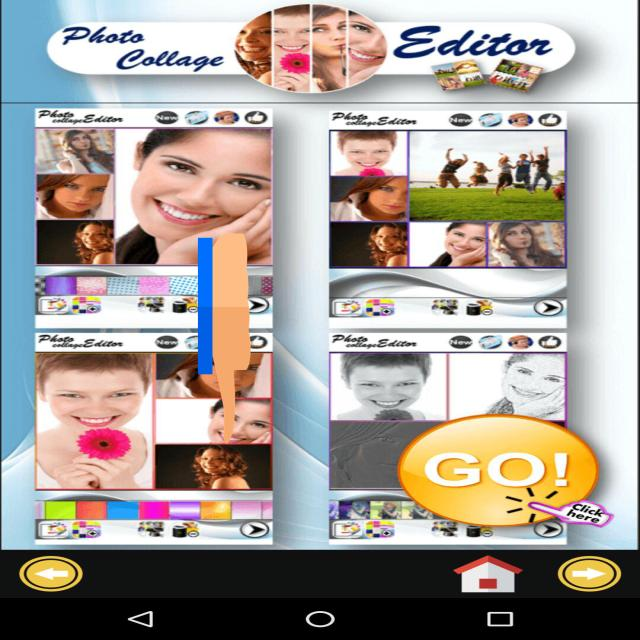obstruction: (198, 228, 251, 449)
